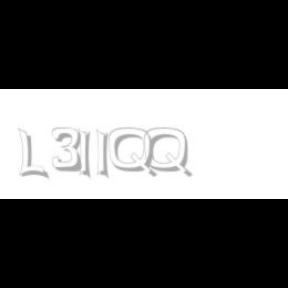3: (52, 128, 84, 172)
I: (97, 128, 110, 180)
L: (18, 128, 46, 180)
Q: (109, 128, 155, 178), (144, 128, 190, 178)
l: (78, 128, 94, 180)
